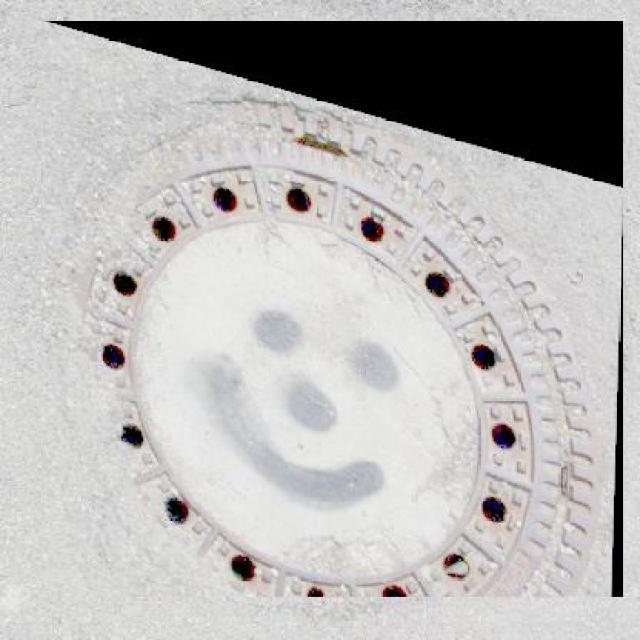Manhole: (40, 20, 623, 597)
